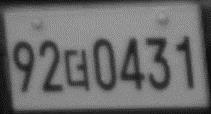0: (92, 38, 117, 91)
1: (172, 34, 201, 89)
2: (37, 39, 65, 92)
3: (144, 36, 172, 89)
4: (117, 37, 146, 90)
9: (11, 40, 36, 93)
더: (64, 48, 92, 92)
